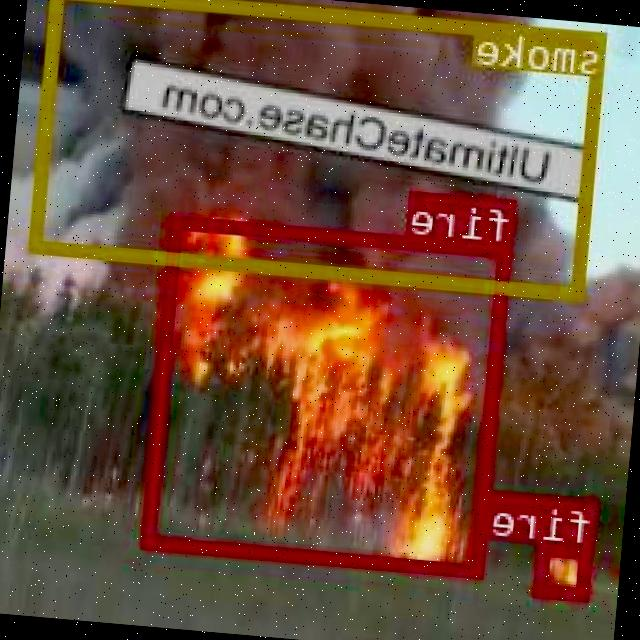fire: (146, 215, 514, 574), (538, 540, 594, 598)
smoke: (33, 0, 610, 298)
